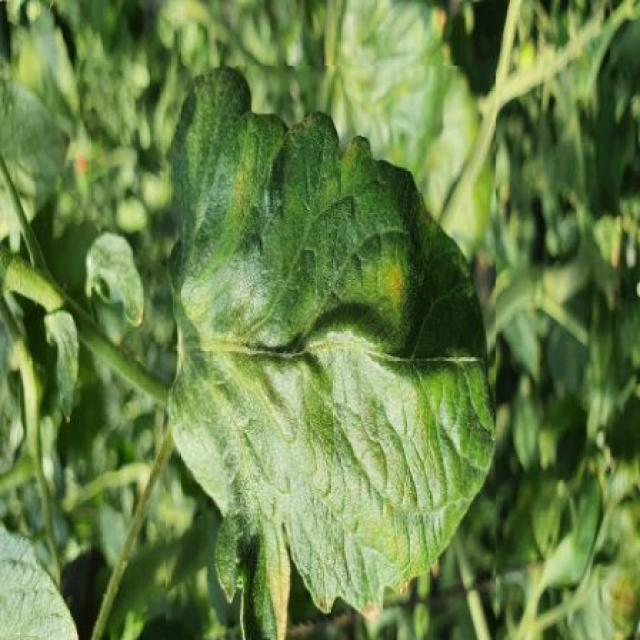Leaf Mold: (165, 65, 495, 640)
